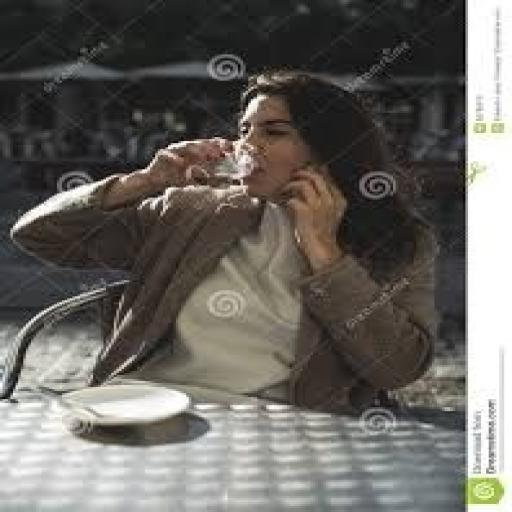drinking: (192, 48, 354, 186)
